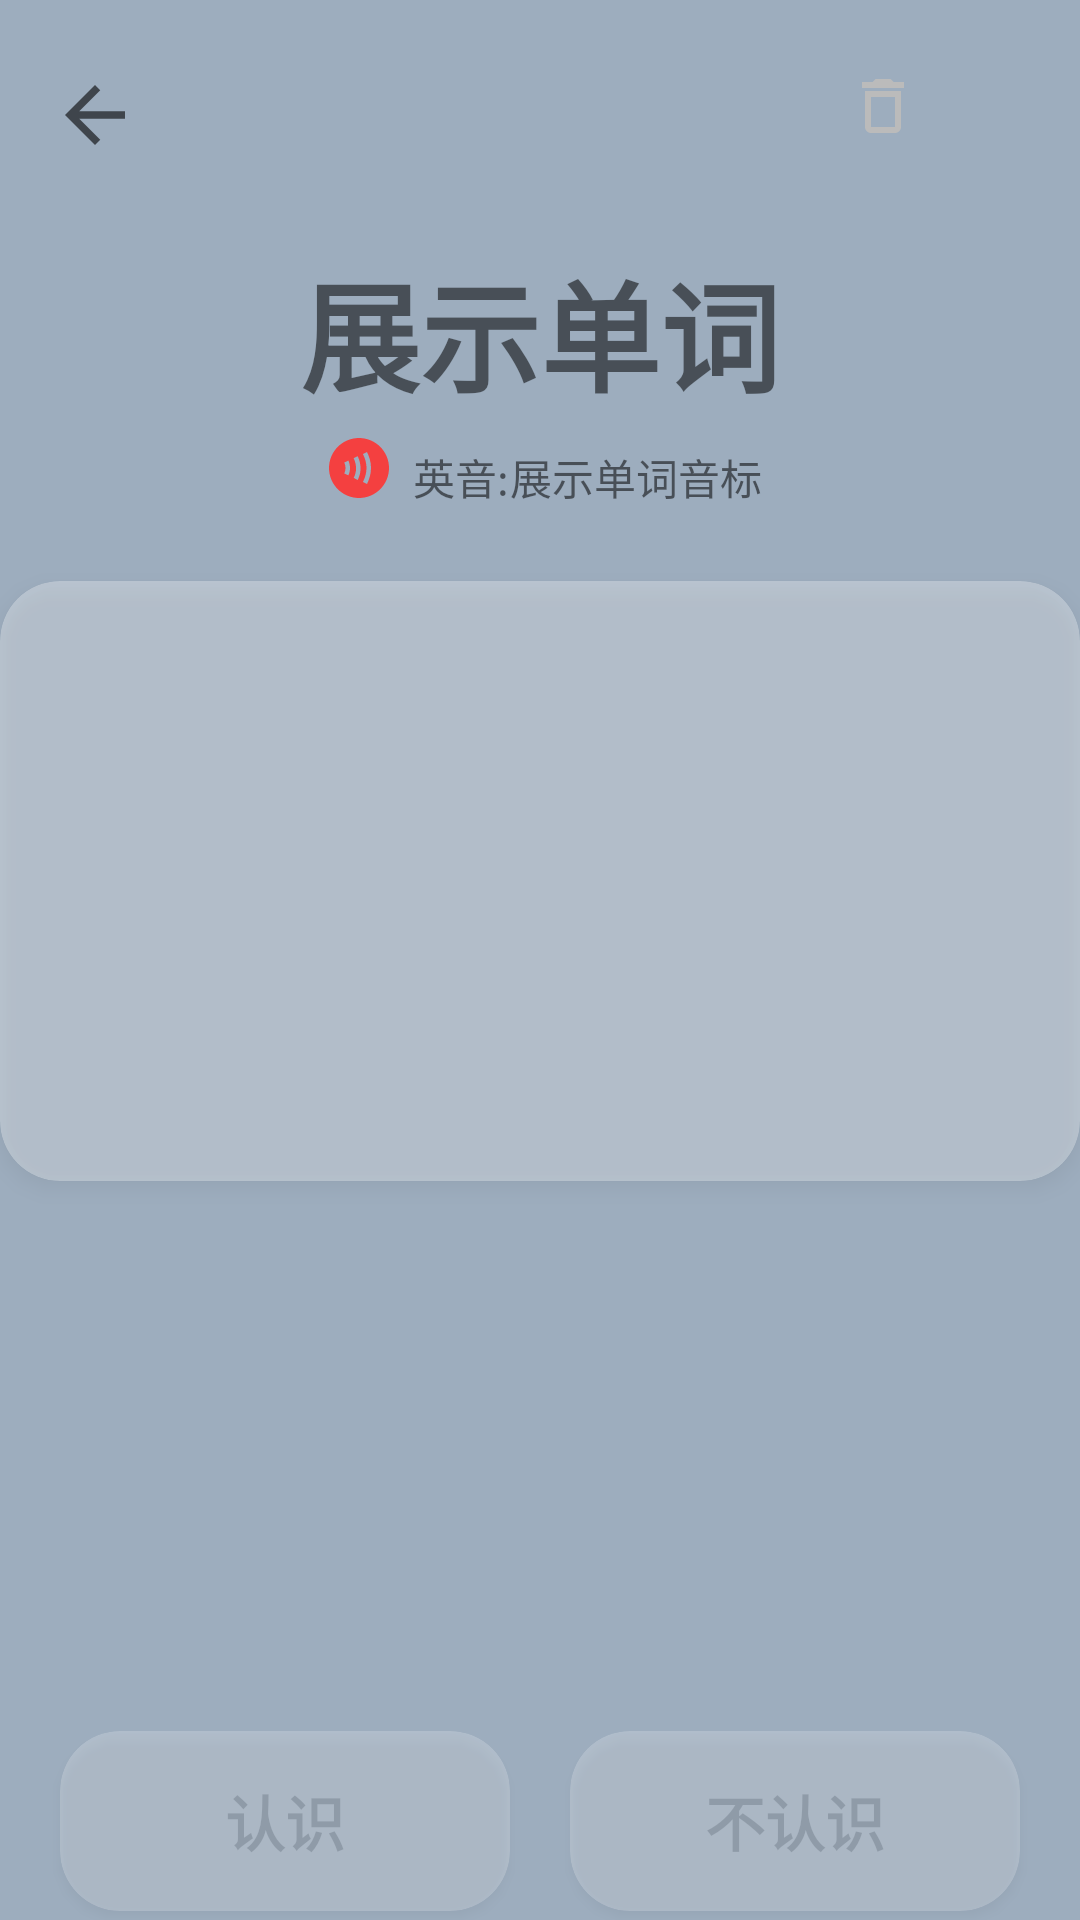

Icon bounding boxes for this 1080px×1920px phone screenshot, format (x1, y1, x2, y2):
adiou: (329, 438, 389, 498)
delete start: (862, 79, 904, 133)
